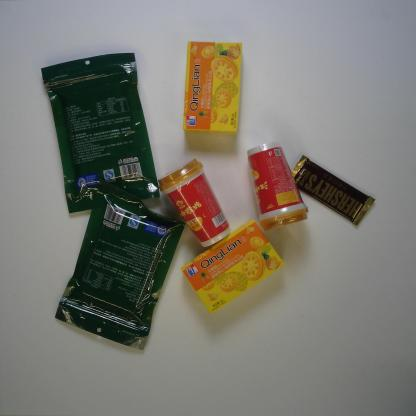Chocolate: (286, 153, 378, 228)
Dessert: (179, 219, 288, 315), (181, 39, 243, 136)
Dried Food: (55, 182, 186, 354), (38, 49, 160, 216)
Instant Drink: (154, 155, 232, 249), (247, 138, 308, 233)
